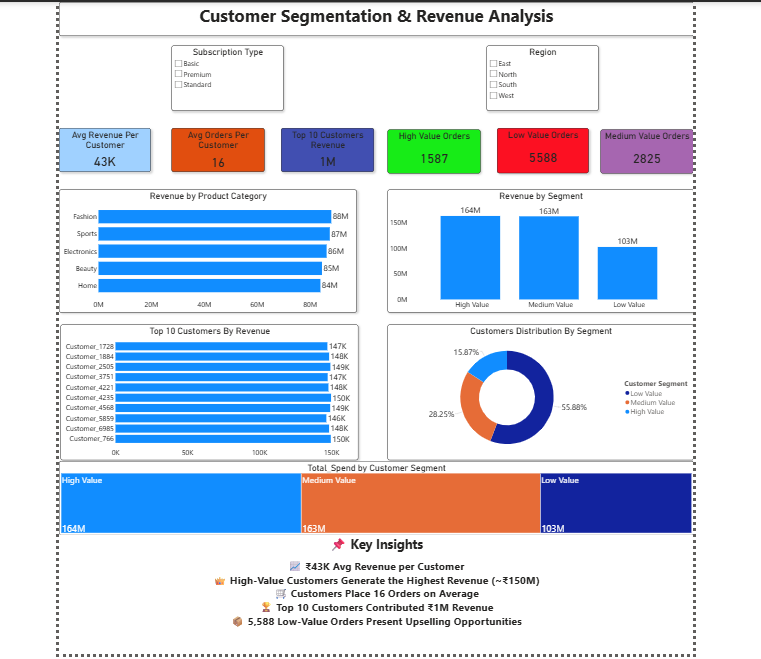

This screenshot's page, from the dashboard's own definition file:
{"tool":"powerbi","page":{"name":"Page 2","canvas":[3600,3700],"ordinal":1},"visuals":[{"type":"textbox","box":[0,0,3601.7,192.6],"z":0},{"type":"card","title":"Avg Revenue Per Customer","fields":{"Values":["customers.Avg Revenue Per Customer"]},"box":[0,713.2,520.6,249.6],"z":1000},{"type":"card","title":"Avg Orders Per Customer","fields":{"Values":["customers.Avg Orders Per Customer"]},"box":[634.8,713.2,527.8,249.6],"z":2000},{"type":"card","title":"High Value Customers","fields":{"Values":["customers.High Value Customers"]},"box":[1861.5,720.3,527.8,249.6],"z":3000},{"type":"card","title":"Medium Value Customers","fields":{"Values":["customers.Medium Value Customers"]},"box":[2477.1,723.6,527.8,246.9],"z":4000},{"type":"card","title":"Low Value Customers","fields":{"Values":["customers.Low Value Customers"]},"box":[3081.5,715,519.3,255.4],"z":5000},{"type":"card","title":"Top 10 Customers Revenue","fields":{"Values":["customers.Top 10 Revenue Customers"]},"box":[1262.4,713.2,527.8,249.6],"z":6000},{"type":"clusteredBarChart","title":" Revenue by Product Category","fields":{"Category":["customers.Product_Category"],"Y":["customers.Total Revenue"]},"box":[0,1062.7,1690.3,698.9],"z":7000},{"type":"lineStackedColumnComboChart","title":" Revenue by Segment","fields":{"Category":["customers.Customer Segment"],"Y":["customers.Total Revenue"]},"box":[1861.5,1062.7,1740.2,698.9],"z":8000},{"type":"clusteredBarChart","title":"Top 10 Customers  By Revenue ","fields":{"Category":["customers.Customer_Name"],"Y":["customers.Total Revenue"]},"box":[7.1,1832.9,1690.3,770.3],"z":9000},{"type":"donutChart","title":"Customers by Subscription Type","fields":{"Category":["customers.Subscription_Type"],"Y":["customers.Total Customers"]},"box":[1861.5,1832.9,1740.2,770.3],"z":10000},{"type":"treemap","title":" Total_Spend by Customer Segment","fields":{"Values":["Sum(customers.Total_Spend)"],"Group":["customers.Customer Segment"]},"box":[0,2603.2,3601.7,420.8],"z":11000},{"type":"slicer","title":"Subscription Type","fields":{"Values":["customers.Subscription_Type"]},"box":[636.1,249.6,636.1,370.4],"z":12000},{"type":"slicer","title":"Region","fields":{"Values":["customers.Region"]},"box":[2423.8,249.6,636.1,370.4],"z":13000},{"type":"textbox","box":[0,3021.9,3600.8,681],"z":14000}]}

Visuals, with their boxes in screenshot pixels (x1, y1, x2, y2):
textbox: 57 0 691 34
"Avg Revenue Per Customer" card: 57 125 149 169
"Avg Orders Per Customer" card: 169 125 262 169
"High Value Customers" card: 385 127 478 171
"Medium Value Customers" card: 493 127 586 171
"Low Value Customers" card: 599 126 691 171
"Top 10 Customers Revenue" card: 280 125 372 169
" Revenue by Product Category" clusteredBarChart: 57 187 355 310
" Revenue by Segment" lineStackedColumnComboChart: 385 187 691 310
"Top 10 Customers  By Revenue " clusteredBarChart: 59 322 356 458
"Customers by Subscription Type" donutChart: 385 322 691 458
" Total_Spend by Customer Segment" treemap: 57 458 691 532
"Subscription Type" slicer: 169 44 281 109
"Region" slicer: 484 44 596 109
textbox: 57 532 691 651
